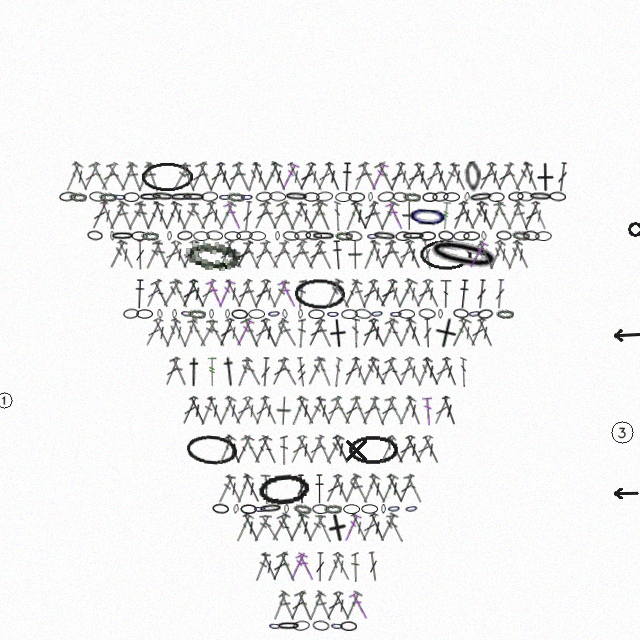chain: (424, 233, 503, 277), (183, 238, 241, 272), (257, 472, 310, 506), (185, 433, 238, 467), (419, 239, 472, 270), (294, 278, 346, 309), (141, 162, 193, 192), (348, 435, 399, 465), (406, 200, 450, 232), (464, 161, 482, 192), (468, 191, 494, 203), (372, 230, 397, 242), (258, 503, 283, 514), (150, 191, 175, 202), (284, 191, 309, 202), (528, 191, 553, 202), (276, 621, 301, 631), (110, 231, 135, 241), (311, 231, 336, 241), (401, 231, 426, 241), (138, 192, 163, 202), (169, 192, 194, 202), (181, 192, 206, 202), (377, 190, 395, 203), (293, 503, 312, 515), (354, 308, 372, 320), (282, 230, 300, 242), (345, 230, 363, 242), (477, 308, 494, 320), (392, 191, 409, 203), (312, 620, 330, 631), (418, 308, 436, 319), (512, 230, 530, 241), (522, 230, 540, 241), (255, 191, 273, 202), (293, 620, 310, 631), (212, 503, 229, 514), (206, 230, 223, 241), (236, 230, 253, 241), (294, 230, 311, 241), (305, 230, 322, 241), (59, 191, 76, 202), (89, 191, 106, 202), (201, 191, 218, 202), (269, 191, 286, 202), (316, 191, 333, 202), (432, 191, 449, 202), (517, 191, 534, 202), (549, 191, 566, 202), (324, 504, 342, 514), (188, 309, 206, 319), (496, 309, 514, 319), (141, 231, 159, 241), (335, 231, 353, 241), (69, 192, 87, 202), (99, 192, 117, 202), (227, 192, 245, 202), (403, 192, 421, 202), (123, 308, 139, 319), (453, 308, 469, 319), (87, 230, 103, 241), (177, 230, 193, 241), (438, 230, 454, 241), (496, 230, 512, 241), (508, 191, 524, 202), (340, 621, 357, 631), (240, 504, 257, 514), (312, 504, 329, 514), (343, 504, 360, 514), (361, 504, 378, 514), (136, 309, 153, 319), (231, 309, 248, 319), (248, 309, 265, 319), (308, 309, 325, 319), (341, 309, 358, 319), (398, 309, 415, 319), (131, 231, 148, 241), (193, 231, 210, 241), (224, 231, 241, 241), (249, 231, 266, 241), (395, 231, 412, 241), (419, 231, 436, 241), (453, 231, 470, 241), (463, 231, 480, 241), (535, 231, 552, 241), (123, 192, 140, 202), (303, 192, 320, 202), (335, 192, 352, 202), (348, 192, 365, 202), (443, 192, 460, 202), (488, 192, 505, 202), (404, 503, 419, 514), (467, 308, 482, 319), (422, 192, 438, 202), (387, 503, 401, 514), (180, 308, 194, 319), (267, 308, 281, 319), (370, 308, 384, 319), (268, 621, 282, 631), (330, 621, 344, 631), (253, 504, 267, 514), (326, 309, 340, 319), (389, 309, 403, 319), (366, 231, 380, 241), (113, 192, 127, 202), (218, 192, 232, 202), (240, 192, 254, 202), (233, 504, 239, 514), (157, 309, 163, 319), (282, 309, 288, 319), (481, 231, 487, 241), (464, 192, 470, 202), (284, 504, 289, 514), (381, 504, 386, 514), (172, 309, 177, 319), (209, 309, 214, 319), (225, 309, 230, 319), (298, 309, 303, 319), (438, 309, 443, 319), (110, 231, 115, 241), (167, 231, 172, 241), (275, 231, 280, 241), (368, 192, 373, 202)
double: (285, 512, 310, 544), (105, 200, 130, 232), (374, 161, 399, 193), (276, 551, 300, 583), (240, 317, 264, 349), (384, 317, 408, 349), (448, 317, 472, 349), (394, 278, 418, 310), (276, 200, 300, 232), (304, 200, 328, 232), (376, 200, 400, 232), (259, 161, 283, 193), (294, 590, 317, 622), (276, 512, 299, 544), (232, 434, 255, 466), (250, 434, 273, 466), (258, 434, 281, 466), (384, 356, 407, 388), (150, 278, 173, 310), (340, 278, 363, 310), (142, 200, 165, 232), (312, 200, 335, 232), (195, 161, 218, 193), (348, 590, 371, 621), (232, 512, 255, 543), (240, 434, 263, 465), (412, 434, 435, 465), (214, 395, 237, 426), (232, 395, 255, 426), (330, 395, 353, 426), (384, 395, 407, 426), (142, 317, 165, 348), (160, 278, 183, 309), (466, 239, 489, 270), (214, 200, 237, 231), (133, 161, 156, 192), (161, 200, 183, 232), (160, 240, 183, 270), (403, 162, 426, 192), (269, 590, 291, 621), (305, 590, 327, 621), (323, 590, 345, 621), (331, 590, 353, 621), (341, 590, 363, 621), (295, 551, 317, 582), (331, 551, 353, 582), (269, 512, 291, 543), (377, 512, 399, 543), (223, 473, 245, 504), (241, 473, 263, 504), (359, 473, 381, 504), (367, 473, 389, 504), (377, 473, 399, 504), (403, 473, 425, 504), (215, 434, 237, 465), (287, 434, 309, 465), (295, 434, 317, 465), (323, 434, 345, 465), (385, 434, 407, 465), (395, 434, 417, 465), (403, 434, 425, 465), (241, 395, 263, 426), (287, 395, 309, 426), (295, 395, 317, 426), (359, 395, 381, 426), (395, 395, 417, 426), (367, 356, 389, 387), (403, 356, 425, 387), (431, 356, 453, 387), (151, 317, 173, 348), (187, 317, 209, 348), (223, 317, 245, 348), (233, 317, 255, 348), (305, 317, 327, 348), (377, 317, 399, 348), (395, 317, 417, 348), (457, 317, 479, 348), (169, 278, 191, 309), (223, 278, 245, 309), (251, 278, 273, 309), (277, 278, 299, 309), (367, 278, 389, 309), (377, 278, 399, 309), (413, 278, 435, 309), (115, 239, 137, 270), (169, 239, 191, 270), (179, 239, 201, 270), (187, 239, 209, 270), (223, 239, 245, 270), (233, 239, 255, 270), (269, 239, 291, 270), (287, 239, 309, 270), (305, 239, 327, 270), (359, 239, 381, 270), (385, 239, 407, 270), (493, 239, 515, 270), (205, 200, 227, 231), (251, 200, 273, 231), (259, 200, 281, 231), (269, 200, 291, 231), (295, 200, 317, 231), (341, 200, 363, 231), (349, 200, 371, 231), (467, 200, 489, 231), (493, 200, 515, 231), (503, 200, 525, 231), (62, 161, 84, 192), (80, 161, 102, 192), (88, 161, 110, 192), (98, 161, 120, 192), (116, 161, 138, 192), (278, 161, 300, 192), (296, 161, 318, 192), (304, 161, 326, 192), (358, 161, 380, 192), (476, 161, 498, 192), (494, 161, 516, 192), (287, 590, 308, 621), (259, 551, 280, 582), (269, 551, 290, 582), (287, 551, 308, 582), (241, 512, 262, 543), (341, 512, 362, 543), (349, 512, 370, 543), (359, 512, 380, 543), (367, 512, 388, 543), (233, 473, 254, 504), (323, 473, 344, 504), (331, 473, 352, 504), (385, 473, 406, 504), (223, 434, 244, 465), (331, 434, 352, 465), (421, 434, 442, 465), (179, 395, 200, 426), (187, 395, 208, 426), (205, 395, 226, 426), (223, 395, 244, 426), (259, 395, 280, 426), (323, 395, 344, 426), (341, 395, 362, 426), (377, 395, 398, 426), (431, 395, 452, 426), (169, 356, 190, 387), (269, 356, 290, 387), (305, 356, 326, 387), (341, 356, 362, 387), (359, 356, 380, 387), (377, 356, 398, 387), (421, 356, 442, 387), (169, 317, 190, 348), (251, 317, 272, 348), (259, 317, 280, 348), (359, 317, 380, 348), (367, 317, 388, 348), (467, 317, 488, 348), (475, 317, 496, 348), (143, 278, 164, 309), (179, 278, 200, 309), (187, 278, 208, 309), (197, 278, 218, 309), (205, 278, 226, 309), (215, 278, 236, 309), (259, 278, 280, 309), (359, 278, 380, 309), (403, 278, 424, 309), (421, 278, 442, 309), (107, 239, 128, 270), (251, 239, 272, 270), (377, 239, 398, 270), (395, 239, 416, 270), (403, 239, 424, 270), (511, 239, 532, 270), (89, 200, 110, 231), (151, 200, 172, 231), (169, 200, 190, 231), (197, 200, 218, 231), (223, 200, 244, 231), (385, 200, 406, 231), (457, 200, 478, 231), (475, 200, 496, 231), (485, 200, 506, 231), (521, 200, 542, 231), (529, 200, 550, 231), (70, 161, 91, 192), (188, 161, 209, 192), (206, 161, 227, 192), (214, 161, 235, 192), (232, 161, 253, 192), (250, 161, 271, 192), (286, 161, 307, 192), (314, 161, 335, 192), (368, 161, 389, 192), (394, 161, 415, 192), (412, 161, 433, 192), (422, 161, 443, 192), (448, 161, 469, 192), (512, 161, 533, 192), (277, 318, 299, 347), (106, 162, 127, 192), (296, 512, 316, 543), (342, 473, 362, 504), (396, 473, 416, 504), (306, 434, 326, 465), (314, 395, 334, 426), (350, 395, 370, 426), (404, 395, 424, 426), (162, 356, 182, 387), (314, 356, 334, 387), (350, 356, 370, 387), (396, 356, 416, 387), (440, 356, 460, 387), (216, 317, 236, 348), (404, 317, 424, 348), (234, 278, 254, 309), (324, 278, 344, 309), (152, 239, 172, 270), (216, 239, 236, 270), (368, 239, 388, 270), (98, 200, 118, 231), (134, 200, 154, 231), (360, 200, 380, 231), (450, 200, 470, 231), (225, 161, 245, 192), (269, 161, 289, 192), (323, 161, 343, 192), (351, 161, 371, 192), (387, 161, 407, 192), (431, 161, 451, 192), (485, 161, 505, 192), (521, 161, 541, 192), (259, 513, 280, 542), (314, 591, 334, 621), (324, 552, 344, 582), (252, 513, 272, 543), (306, 513, 326, 543), (216, 474, 236, 504), (350, 474, 370, 504), (306, 396, 326, 426), (242, 357, 262, 387), (278, 357, 298, 387), (198, 318, 218, 348), (206, 318, 226, 348), (314, 318, 334, 348), (270, 279, 290, 309), (296, 240, 316, 270), (314, 240, 334, 270), (476, 240, 496, 270), (486, 240, 506, 270), (126, 201, 146, 231), (171, 162, 191, 192), (252, 395, 271, 426), (440, 395, 459, 426), (386, 278, 405, 309), (260, 240, 280, 269), (278, 591, 297, 621), (386, 513, 405, 543), (234, 357, 253, 387), (414, 357, 433, 387), (162, 318, 181, 348), (270, 318, 289, 348), (242, 279, 261, 309), (332, 279, 351, 309), (144, 240, 163, 270), (504, 240, 523, 270), (116, 201, 135, 231), (180, 201, 199, 231), (288, 201, 307, 231), (368, 201, 387, 231), (179, 162, 198, 192), (441, 162, 460, 192), (378, 435, 397, 464), (188, 201, 207, 230), (253, 552, 271, 582), (315, 513, 333, 543), (315, 435, 333, 465), (351, 279, 369, 309), (243, 240, 261, 270), (279, 240, 297, 270), (513, 201, 531, 231), (126, 162, 144, 192), (504, 162, 522, 192), (199, 396, 216, 426), (181, 318, 198, 348), (144, 162, 161, 192), (244, 162, 261, 192), (370, 396, 386, 426), (420, 239, 435, 270), (367, 551, 380, 582), (475, 279, 488, 309), (241, 201, 254, 231), (556, 162, 569, 192), (422, 396, 434, 426), (440, 279, 452, 309), (494, 279, 506, 309), (260, 474, 271, 504), (296, 474, 307, 504), (260, 357, 271, 387), (332, 357, 343, 387), (422, 318, 433, 348), (296, 279, 307, 309), (315, 552, 325, 582), (135, 240, 145, 270), (351, 552, 360, 582), (297, 318, 306, 348), (351, 318, 360, 348), (280, 435, 288, 465), (460, 357, 467, 387), (334, 201, 341, 231)
half_double: (220, 356, 239, 387), (185, 357, 203, 387), (133, 279, 146, 309), (457, 279, 470, 309), (331, 240, 344, 270), (341, 162, 353, 192), (314, 474, 325, 504)
noise: (609, 419, 635, 445), (611, 327, 640, 342), (0, 390, 15, 411), (611, 488, 639, 499), (626, 220, 640, 238)
single: (320, 510, 355, 545), (322, 317, 354, 349), (431, 316, 460, 350), (341, 435, 371, 465), (530, 162, 560, 192), (276, 396, 292, 426), (348, 240, 363, 270), (402, 201, 417, 231)
treble: (295, 357, 308, 387), (440, 201, 452, 231), (207, 357, 217, 387)
